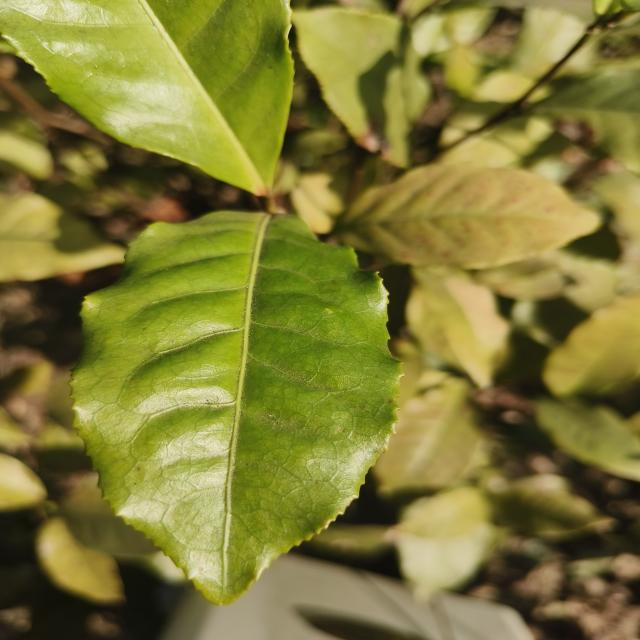Leaf: (73, 211, 400, 604), (0, 0, 294, 196), (336, 163, 599, 269), (292, 6, 409, 166), (373, 376, 482, 494), (406, 268, 509, 387), (0, 192, 125, 282), (395, 487, 495, 599), (536, 69, 640, 171), (543, 294, 640, 396), (536, 398, 640, 481), (36, 517, 125, 605), (496, 490, 613, 539)
